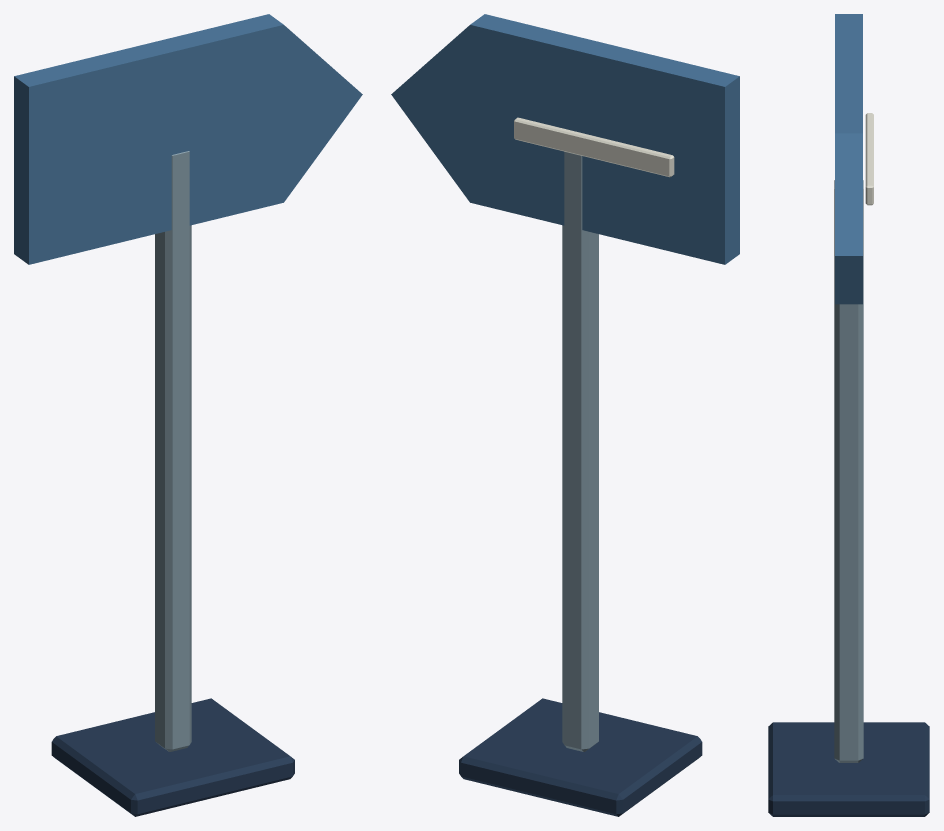
The model's file is dock_arrow_sign.glb.
The picture shows the model from 3 angles, left to right: view 1: azimuth 30°, elevation 25°; view 2: azimuth 150°, elevation 25°; view 3: azimuth 270°, elevation 25°; orthographic projection. The views are drawn at different scales.
Visible parts, largest first — view 1: direction_arrow, sign_post, sign_foot; view 2: direction_arrow, sign_post, sign_foot, arrow_line; view 3: sign_foot, sign_post, direction_arrow, arrow_line.
Part boxes in pixels (x1,y1,x2,y2): direction_arrow: (14,14,362,264); sign_post: (155,151,191,751); sign_foot: (51,698,294,816); direction_arrow: (391,14,739,264); sign_post: (562,151,598,751); sign_foot: (459,698,702,816); arrow_line: (514,117,674,177); sign_foot: (768,722,929,816); sign_post: (834,180,863,762); direction_arrow: (835,14,862,304); arrow_line: (865,113,873,205).
Bounding box in the file's own units: 0.55 × 1.14 × 0.24.
